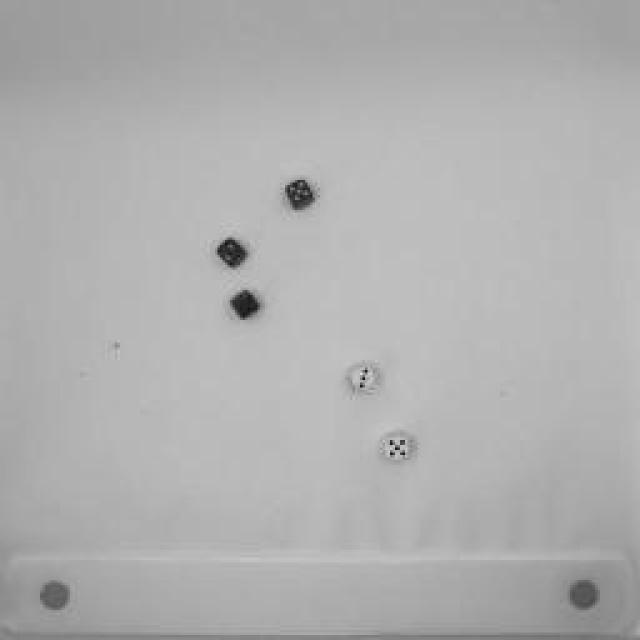dice_1: (215, 235, 250, 270)
dice_3: (228, 287, 262, 325), (345, 362, 380, 398)
dice_5: (285, 176, 315, 214), (384, 434, 408, 461)
